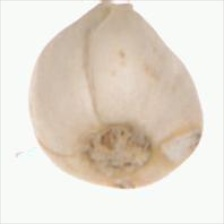L5: (26, 5, 104, 159), (84, 121, 156, 180), (86, 1, 143, 23)
L6: (26, 1, 205, 191)
